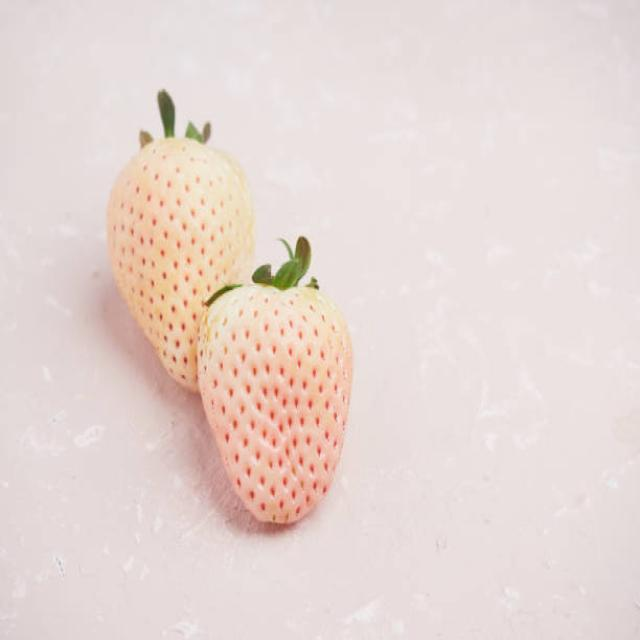Healthy Fruit: (106, 134, 255, 390), (199, 284, 353, 524)
